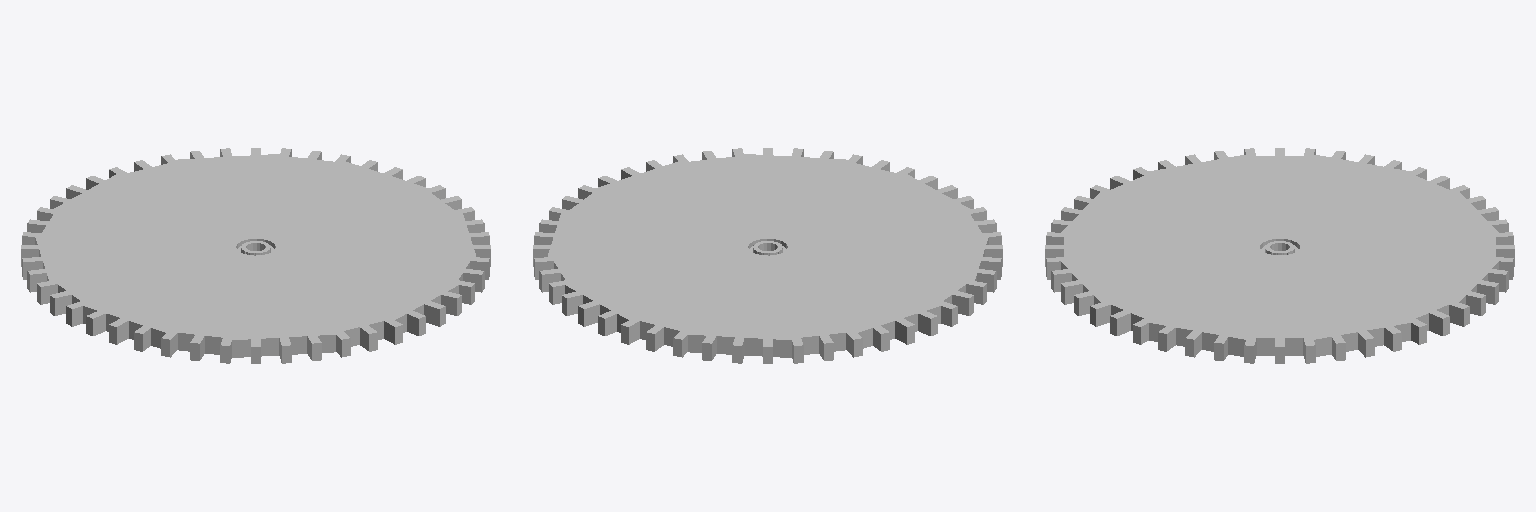
The model's file is big_gear.obj.
3 renders of one model, left to right at view 1: azimuth 30°, elevation 25°; view 2: azimuth 150°, elevation 25°; view 3: azimuth 270°, elevation 25°, orthographic.
Parts seen in each view (by area): view 1: cube; view 2: cube; view 3: cube.
Boxes of the visible parts, x1=… form: cube: x1=21, y1=148, x2=490, y2=363; cube: x1=533, y1=148, x2=1002, y2=363; cube: x1=1045, y1=148, x2=1514, y2=363.
Bounding box in the file's own units: 3 × 0.125 × 3.